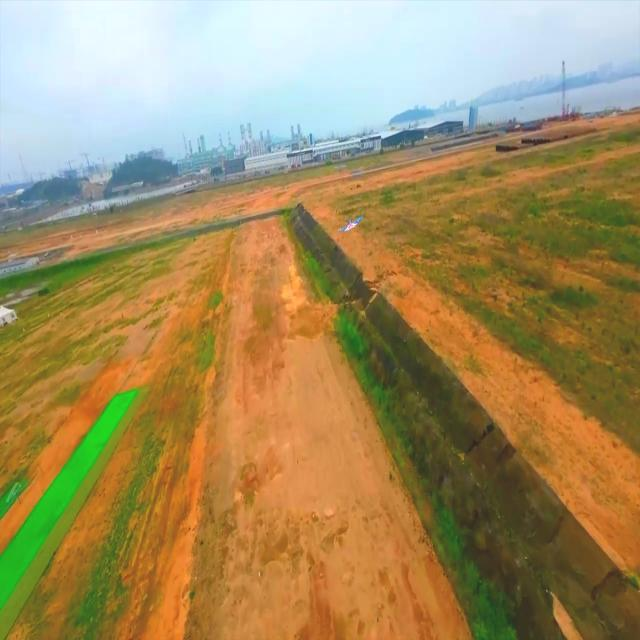iha: (337, 213, 365, 233)
